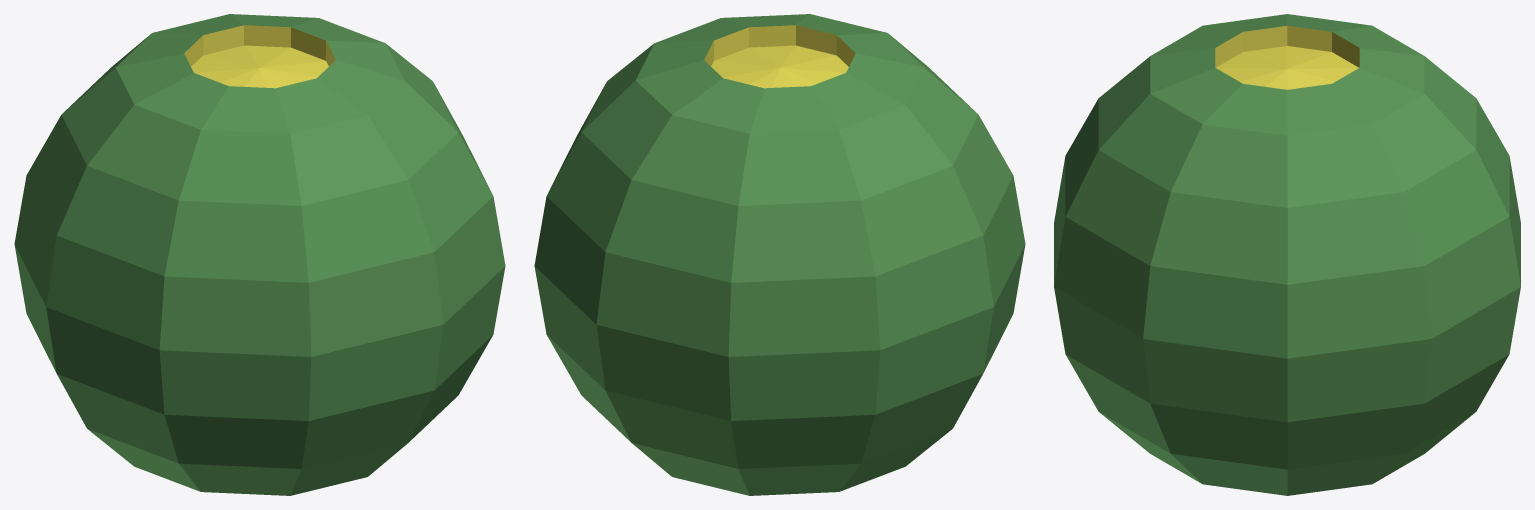
The model's file is PaintBall.fbx.
The picture shows the model from 3 angles, left to right: view 1: azimuth 30°, elevation 25°; view 2: azimuth 150°, elevation 25°; view 3: azimuth 270°, elevation 25°; orthographic projection.
Parts seen in each view (by area): view 1: pSphere1; view 2: pSphere1; view 3: pSphere1.
Part boxes in pixels (<box>): pSphere1: <box>14,14,505,495</box>; pSphere1: <box>534,14,1025,495</box>; pSphere1: <box>1054,14,1520,495</box>.
Bounding box in the file's own units: 12.28 × 10.88 × 11.68.
